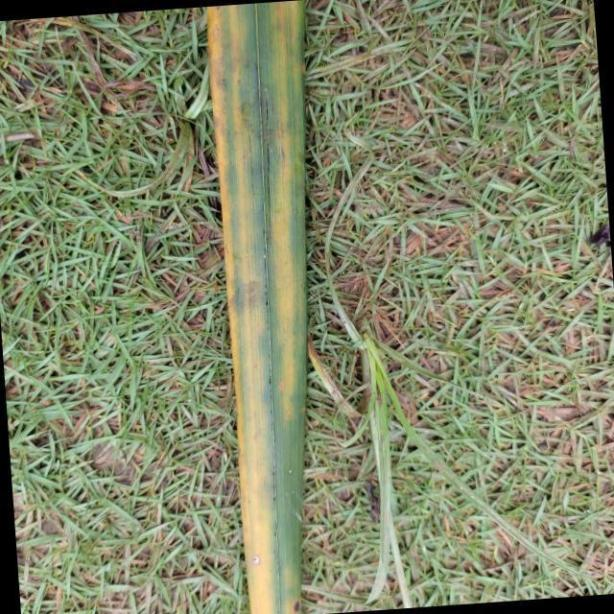Megnesium: (202, 0, 308, 614)
